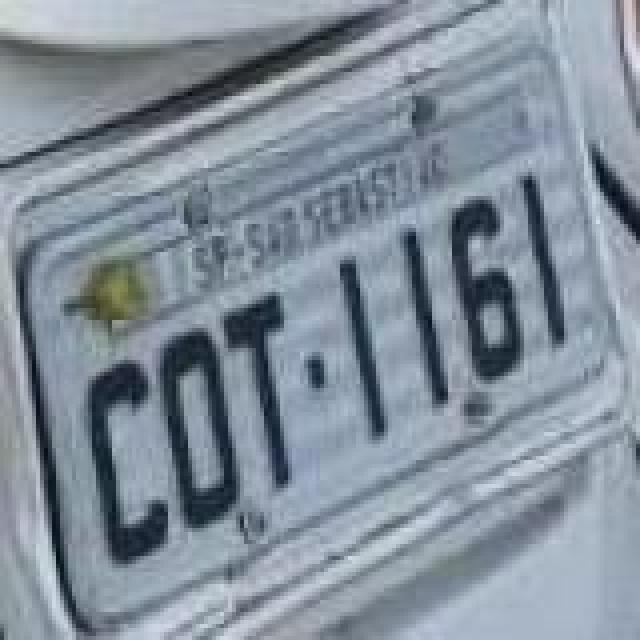1: (338, 256, 390, 440), (398, 230, 450, 410), (518, 168, 570, 344)
6: (450, 198, 526, 386)
C: (84, 362, 172, 566)
O: (158, 330, 242, 534)
T: (220, 294, 292, 490)
